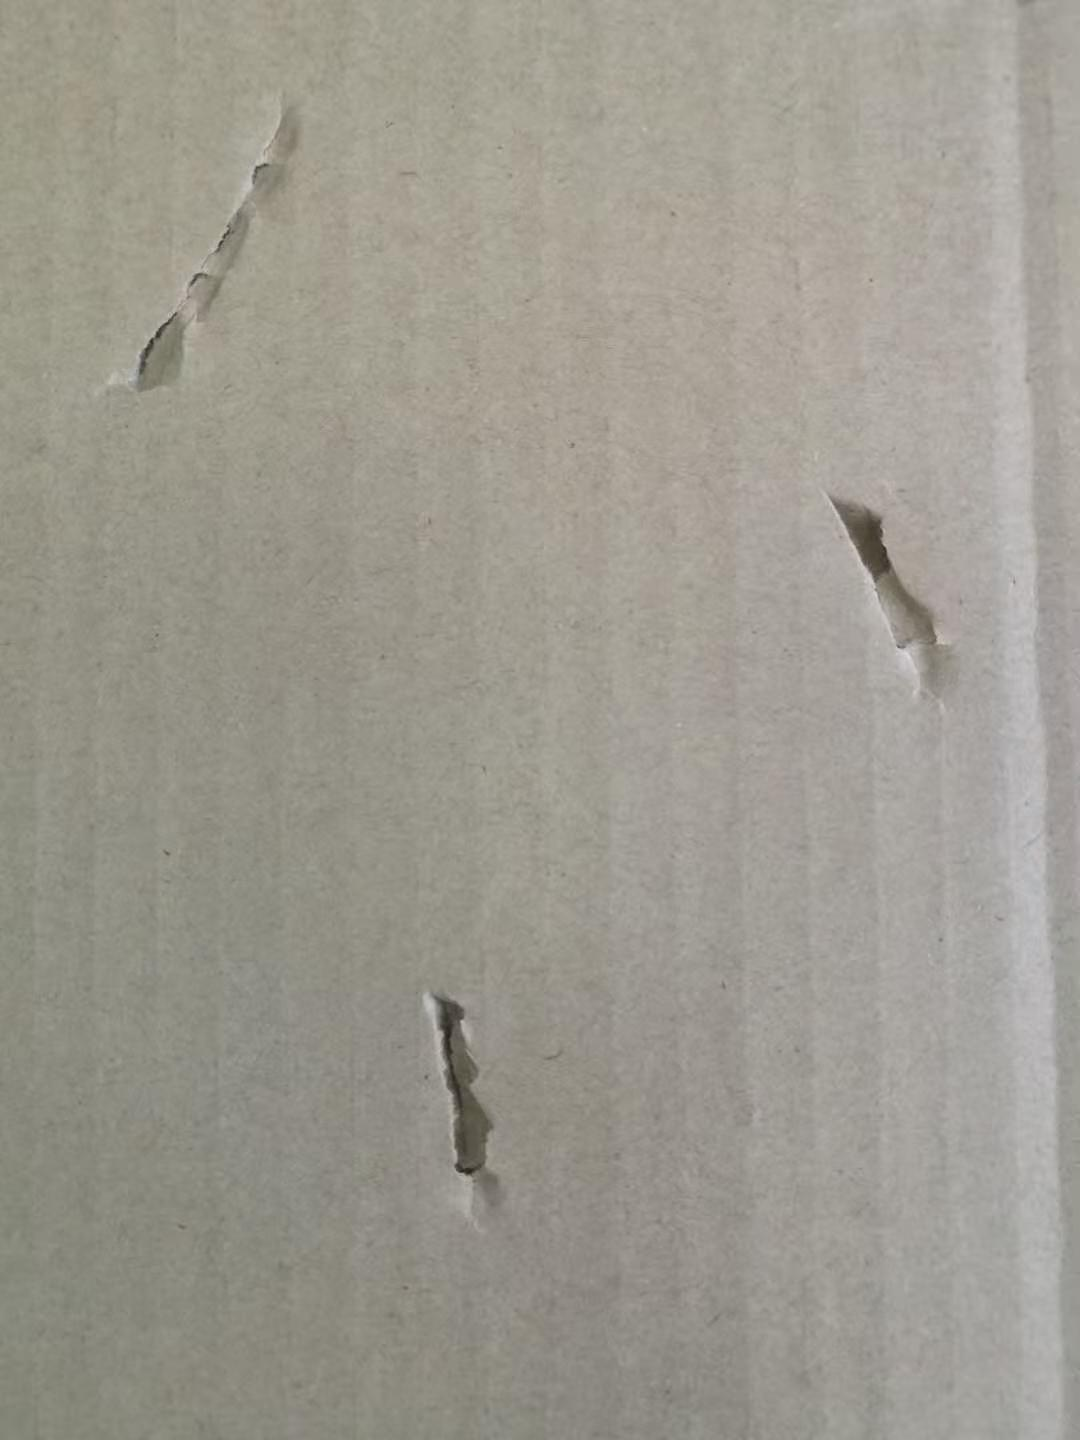defect: (77, 68, 349, 430), (794, 452, 988, 742), (379, 959, 560, 1255)
